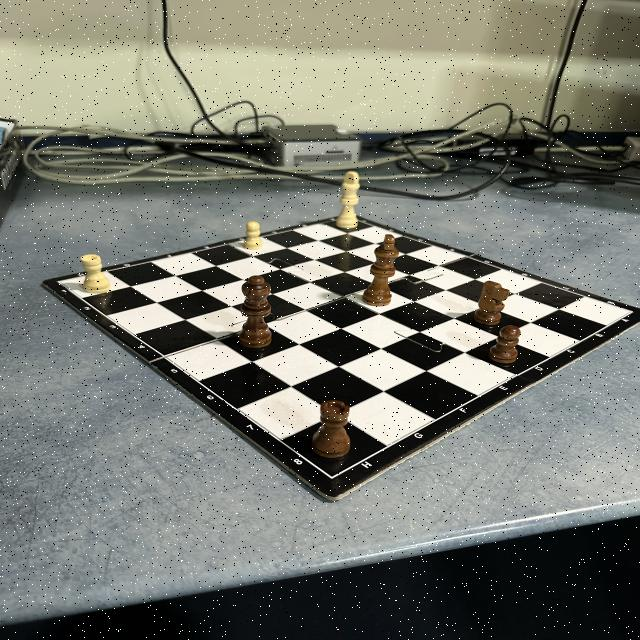Black-King: (362, 234, 400, 306)
Black-Knight: (474, 280, 510, 326)
Black-Pawn: (488, 325, 522, 364)
Black-Queen: (238, 275, 272, 348)
Black-Rook: (311, 399, 351, 458)
White-King: (336, 171, 361, 229)
White-Pawn: (244, 220, 264, 250)
White-Rook: (79, 254, 111, 294)
